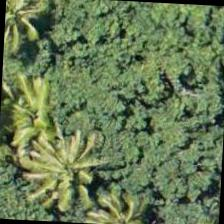Kelapa_Sawit: (3, 0, 53, 61)
